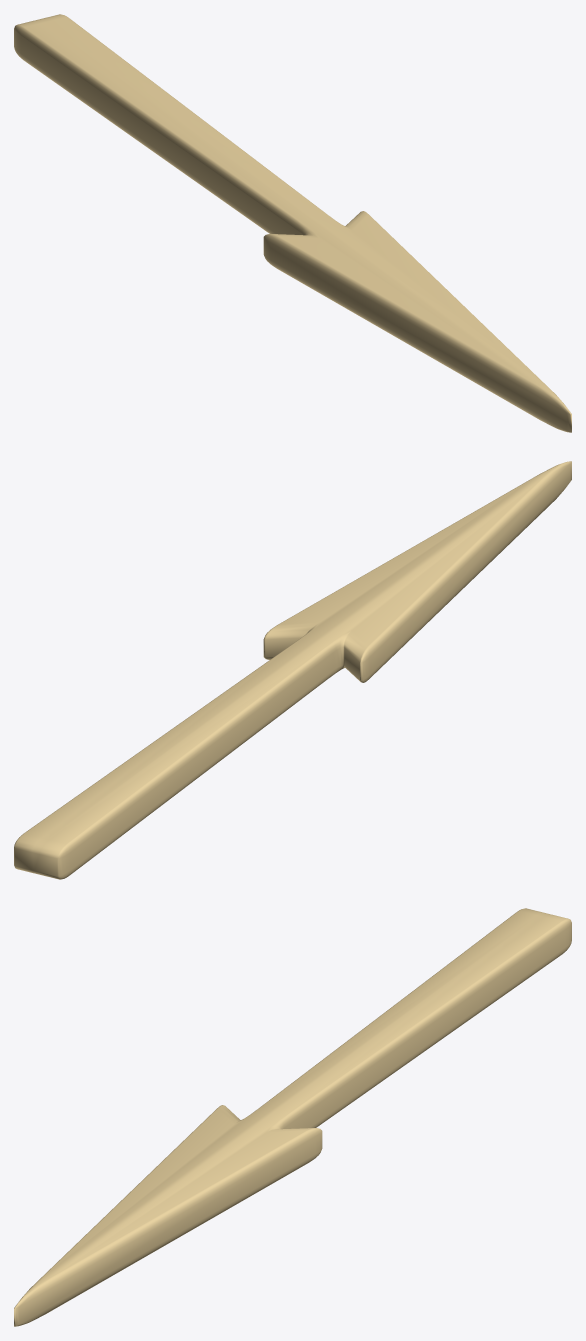
File: 3D RightArrow.fbx
3 views of the same model, one above another, from view 1: azimuth 30°, elevation 25°; view 2: azimuth 150°, elevation 25°; view 3: azimuth 330°, elevation 25° (orthographic).
Visible parts, largest first — view 1: Arrow; view 2: Arrow; view 3: Arrow.
Boxes of the visible parts, x1,y1,x2,y2 form: Arrow: (14, 14, 571, 432); Arrow: (14, 461, 571, 879); Arrow: (14, 908, 571, 1326).
Bounding box in the file's own units: 32.29 × 10.23 × 301.
